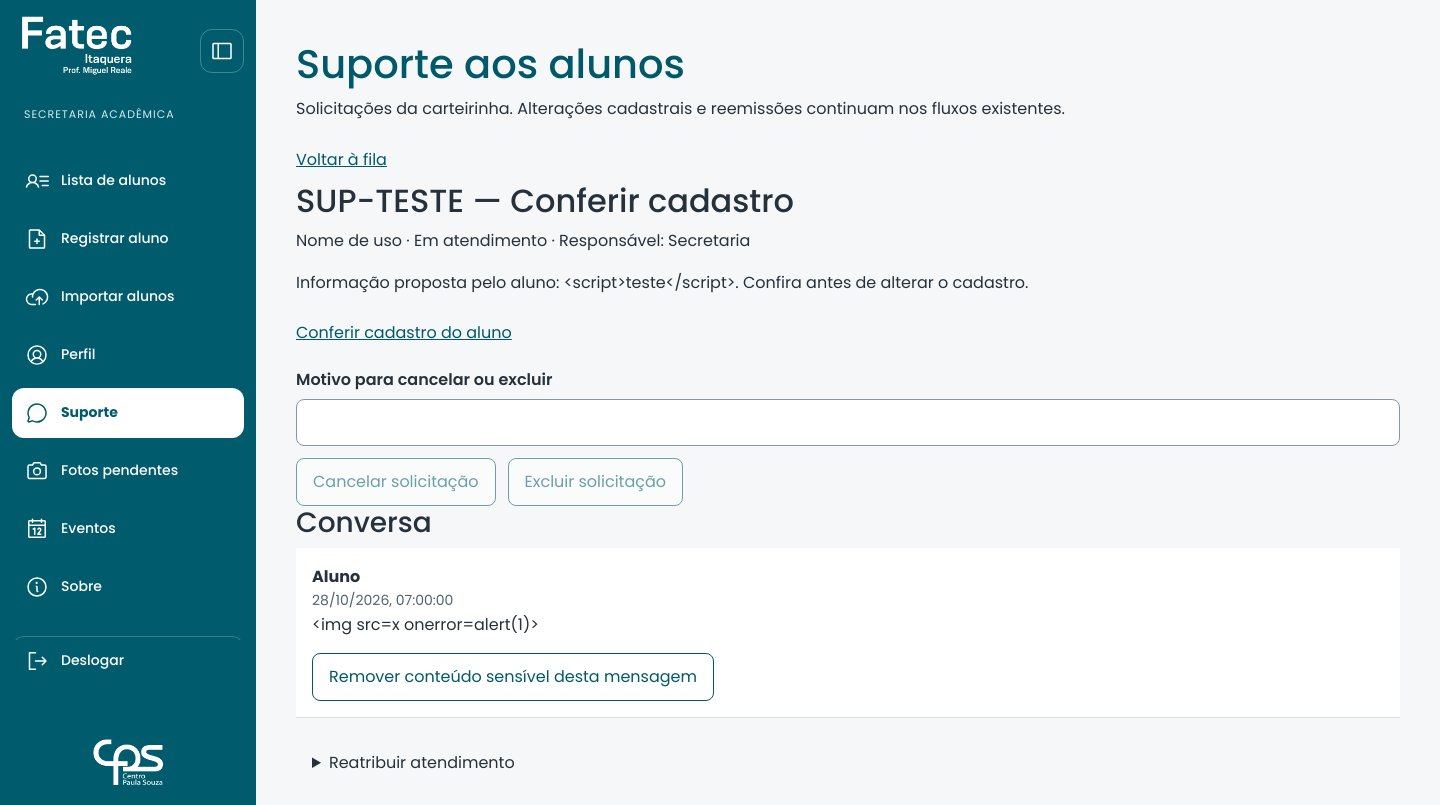
Test: Atendimento de suporte › does not delete when the operator dismisses confirmation
Expected: the heading "SUP-TESTE — Conferir cadastro" is shown, [296,178,794,223]
Step 1. Type "Registro duplicado." into the field labelled "Motivo para cancelar ou excluir" → [848, 423], box [296,399,1400,446]
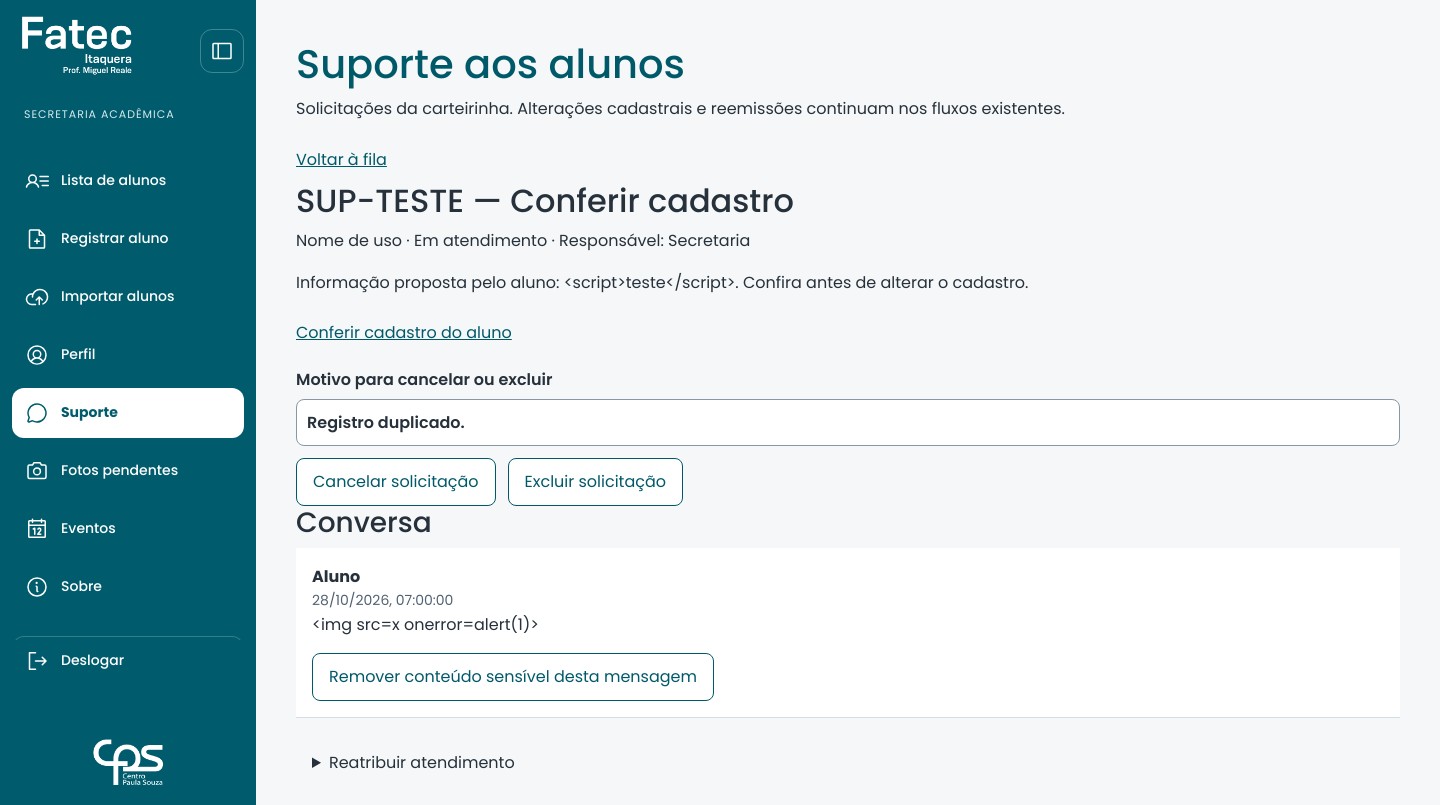
Step 2. Click the button "Excluir solicitação" → [595, 482], box [508,458,683,506]
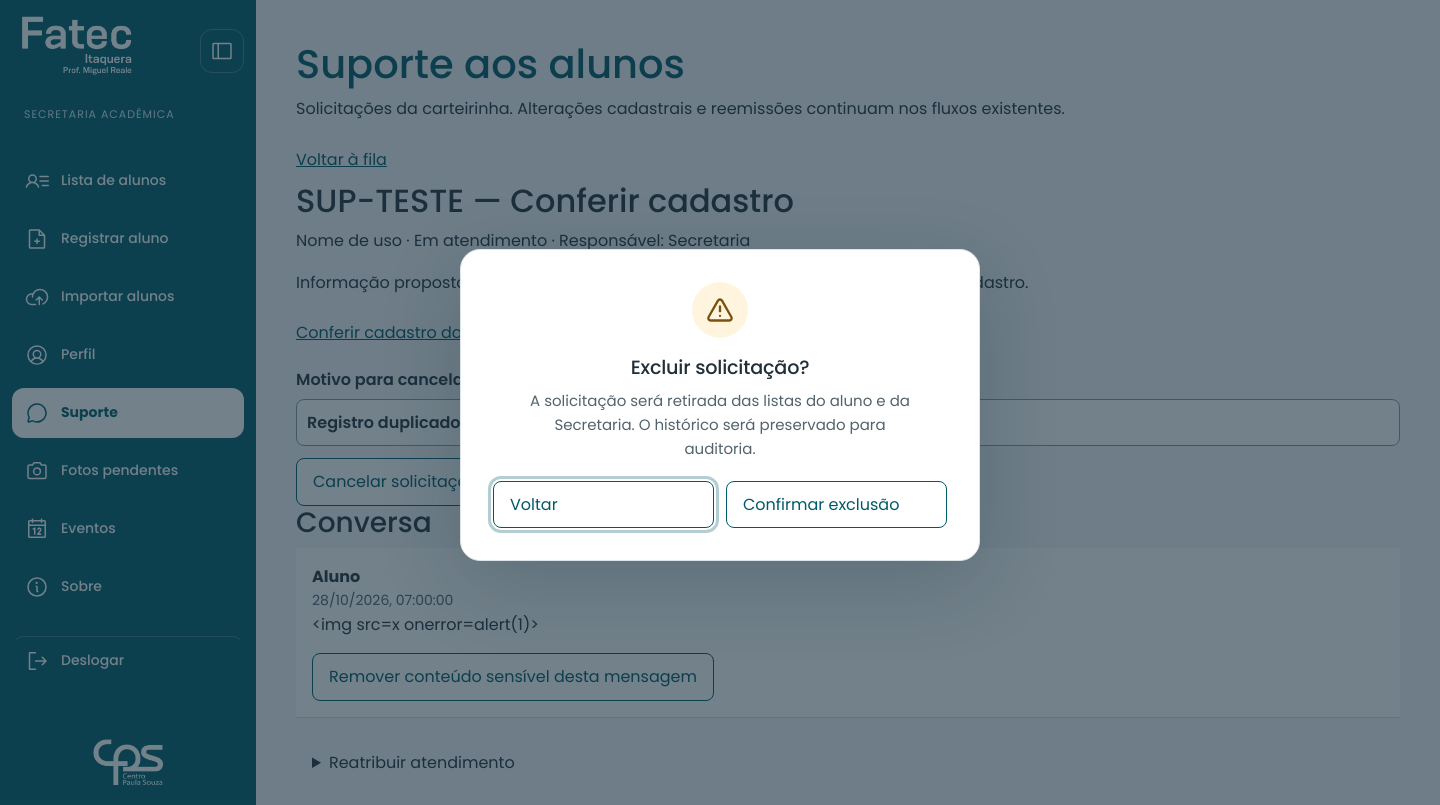
Now the dialog "Excluir solicitação?" is shown, box [460,249,980,561]
Step 3. Click the button "Voltar" → [604, 504], box [493,481,714,528]
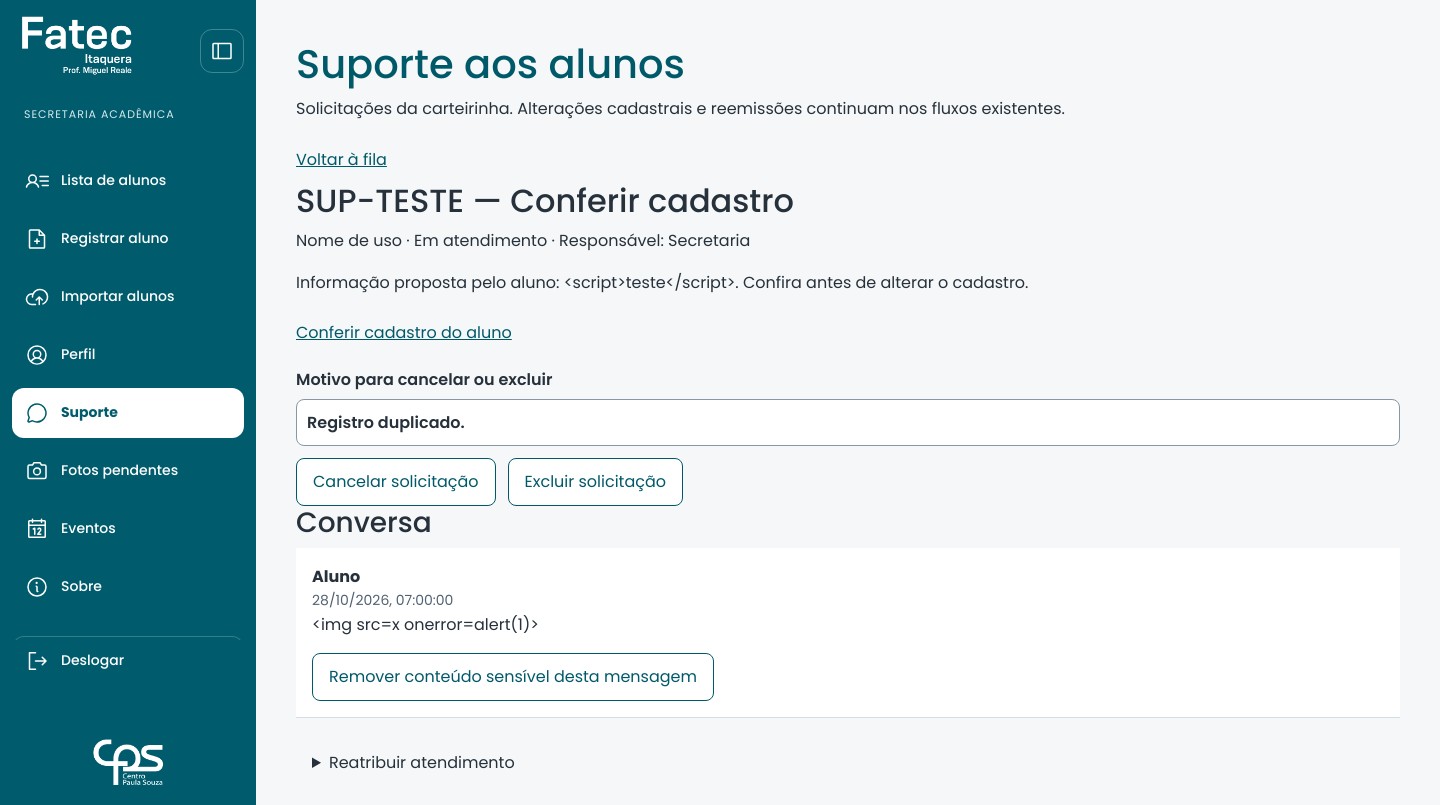
Now the dialog is gone
